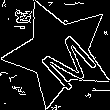M_NW: (24, 19, 93, 87)
